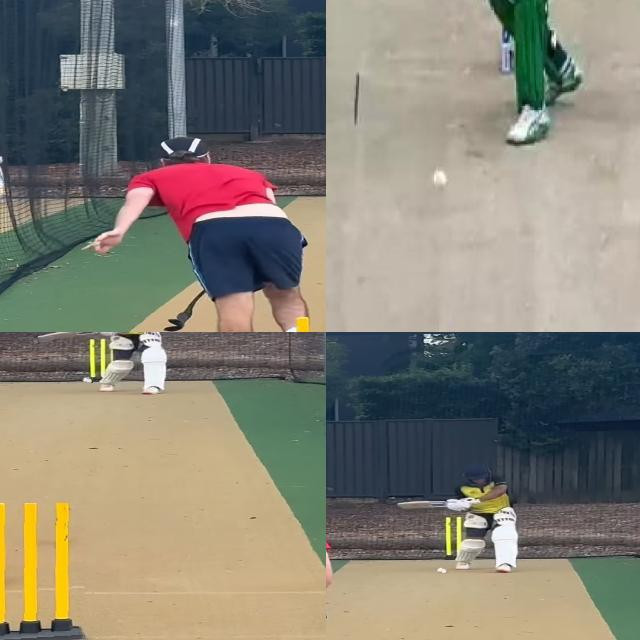Cricket ball: (432, 167, 449, 193), (436, 566, 449, 574), (81, 377, 93, 383)
Stumps: (0, 503, 86, 640), (90, 339, 113, 384), (442, 515, 462, 562)
